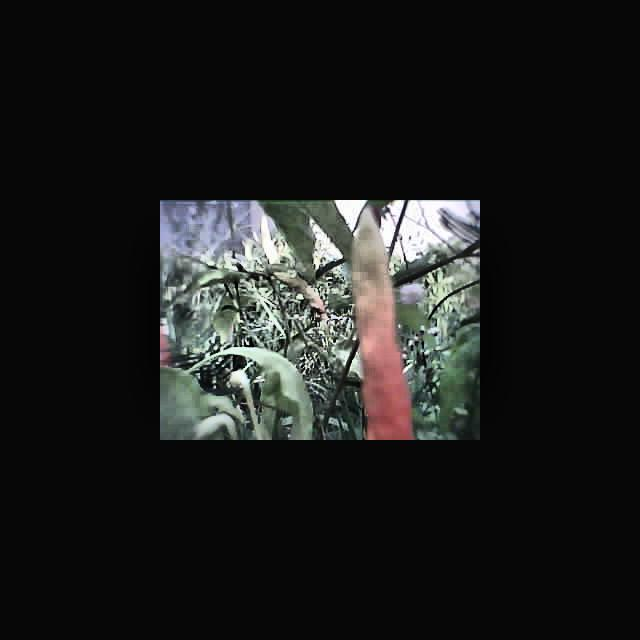Cabai: (346, 210, 417, 440)
